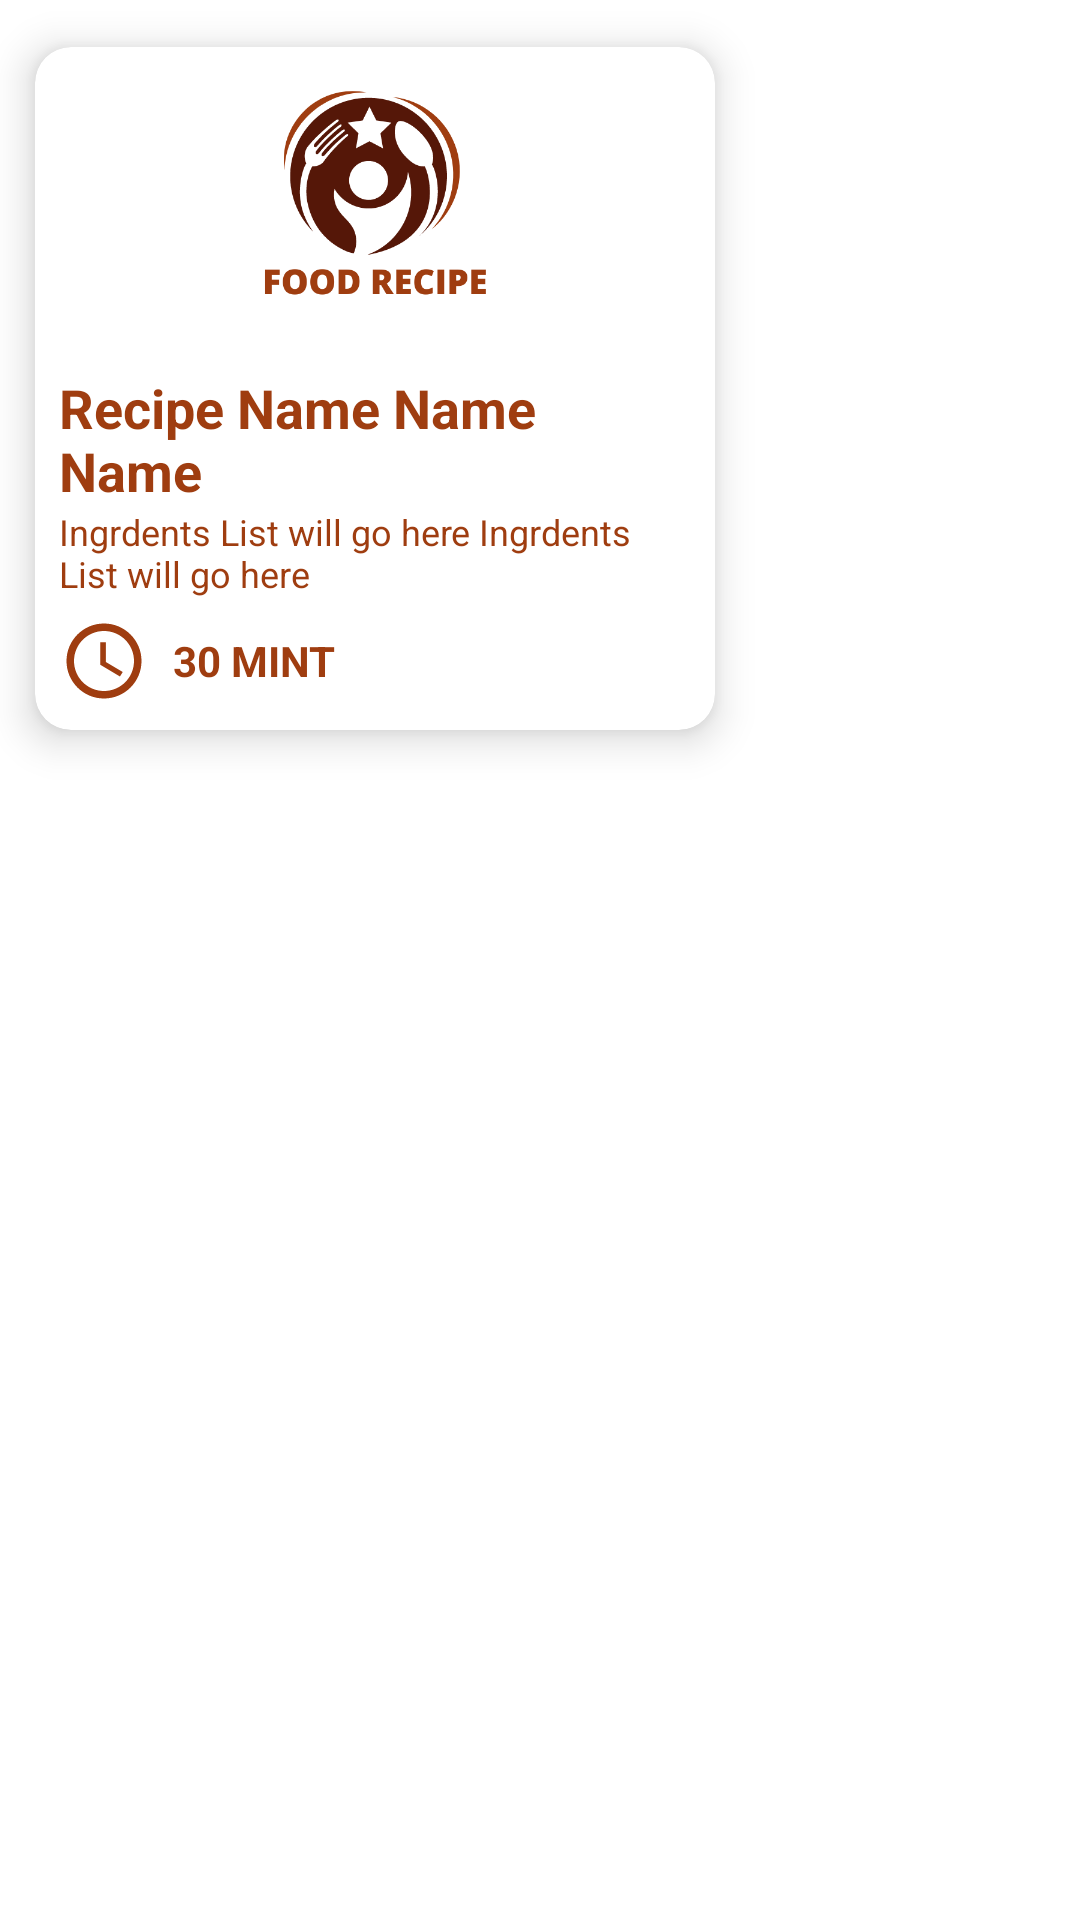

Locate icon controls on the screen. Image size 1080×1920, boxes as [left=x1, top=y1, right=x2, bottom=y2].
time: [left=66, top=623, right=142, bottom=699]
